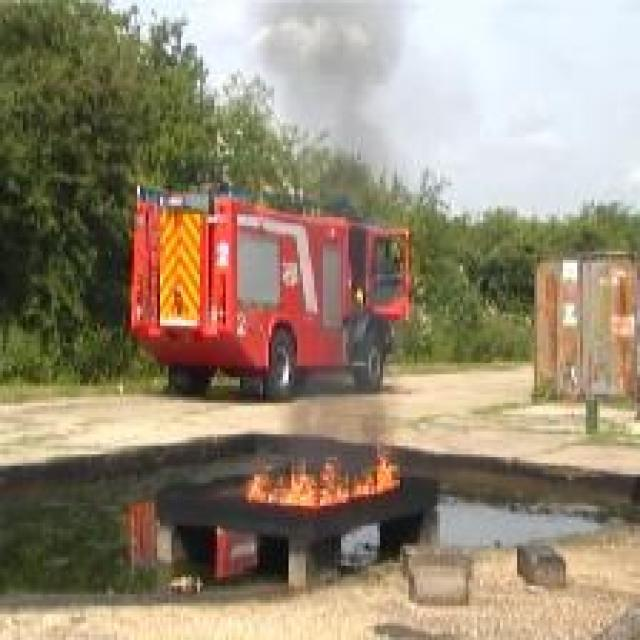Fire: (245, 441, 400, 508)
